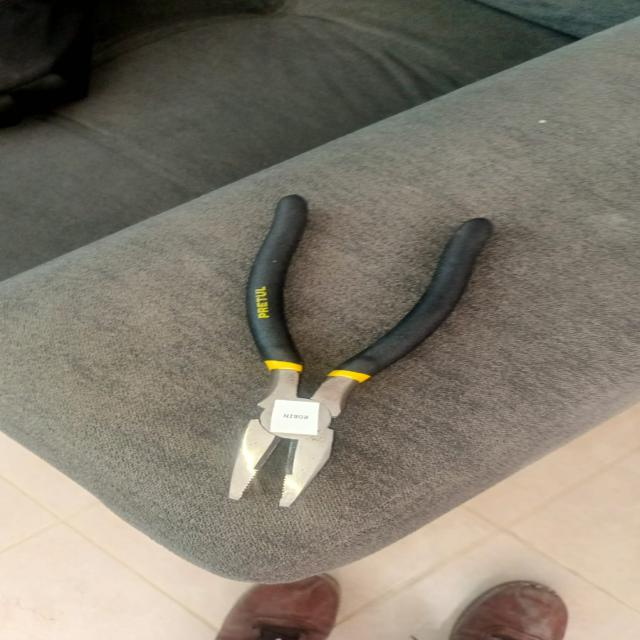alicate: (221, 185, 497, 534)
